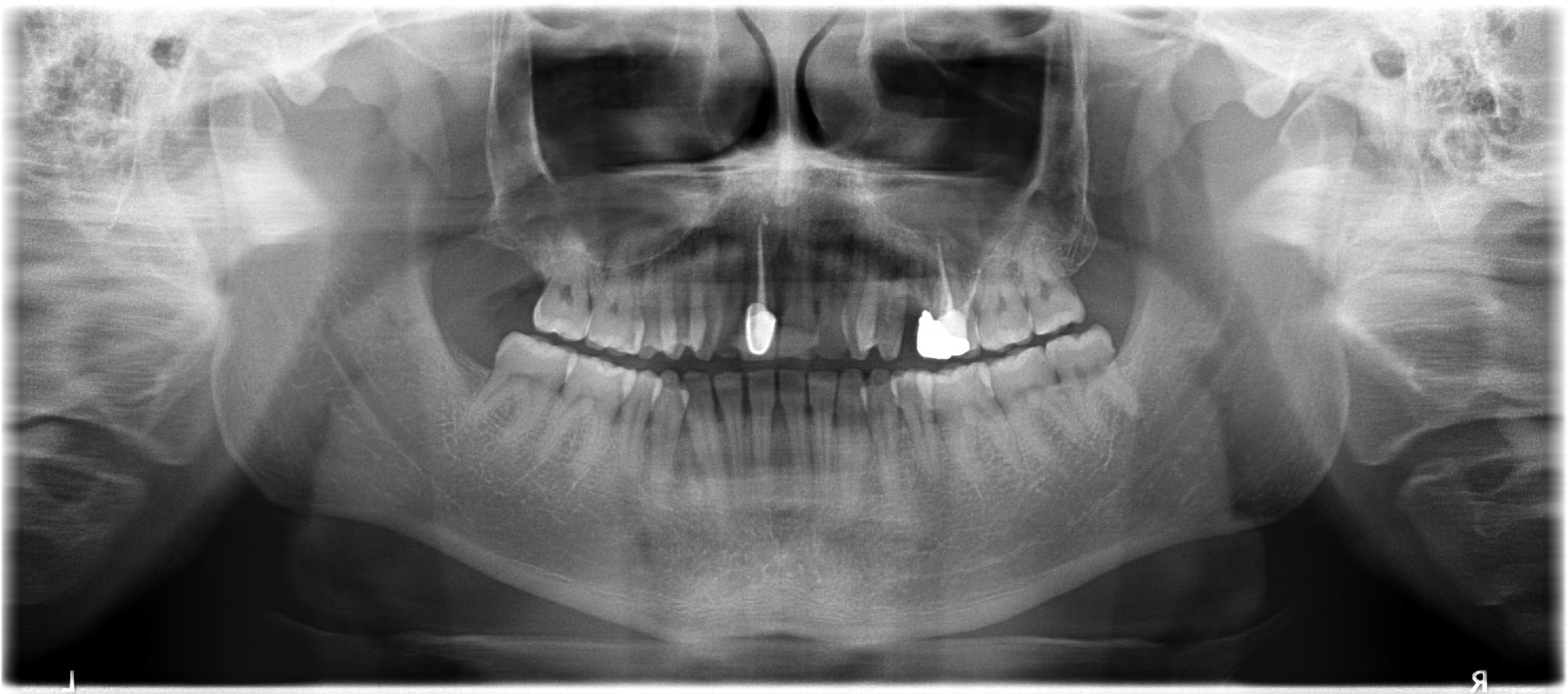Premolars: (496, 103, 1477, 392), (510, 99, 1526, 365)
